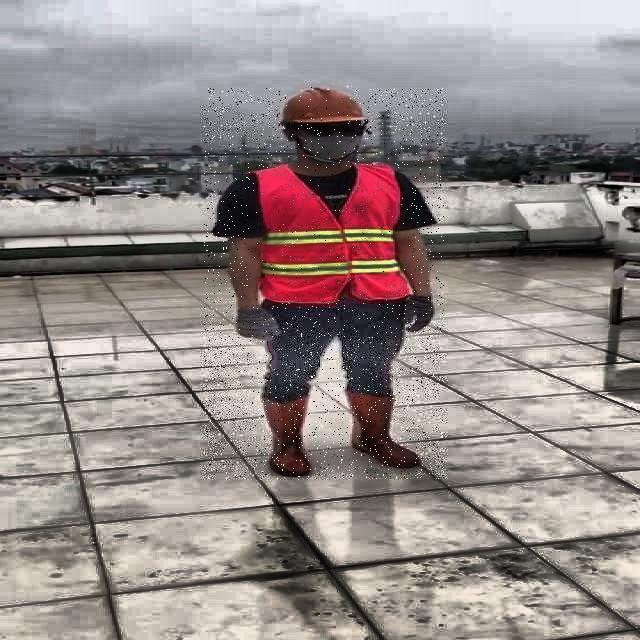safety_helmet: (280, 84, 366, 124)
safety_jacket: (249, 167, 411, 302)
